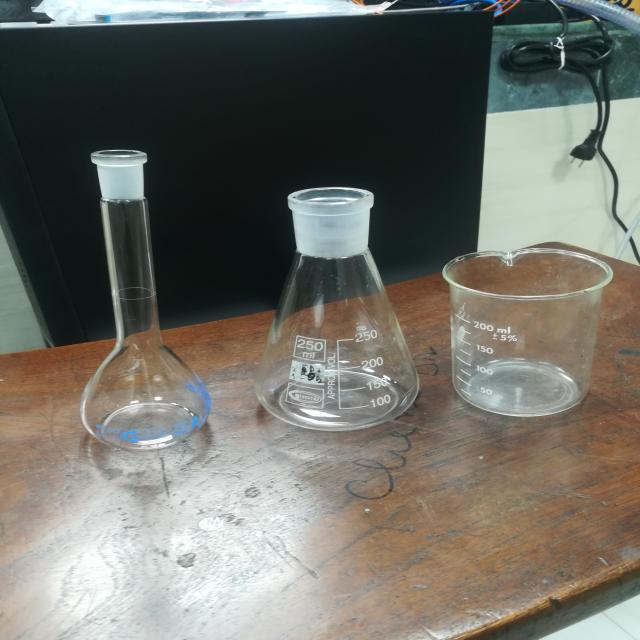Beaker: (446, 228, 605, 423)
Conical_Flask: (254, 174, 430, 450)
Volumetric_Flask: (58, 125, 222, 466)
